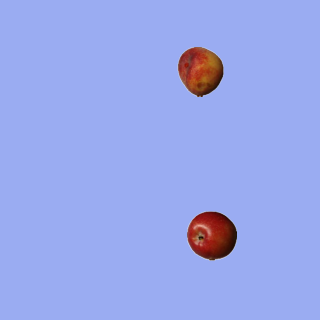Apple Braeburn: (186, 210, 236, 260)
Peach: (175, 46, 225, 96)
